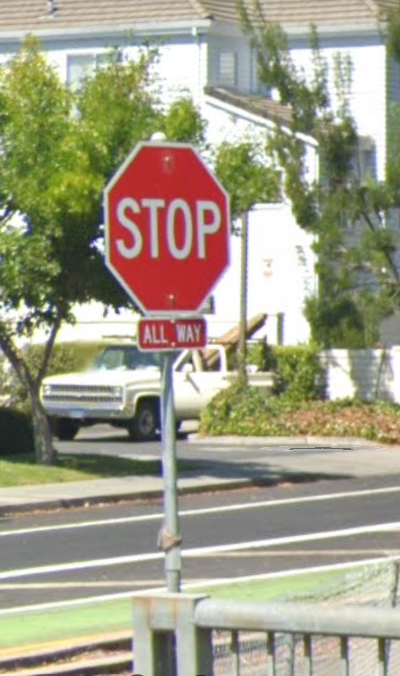stop_sign: (104, 143, 230, 311)
